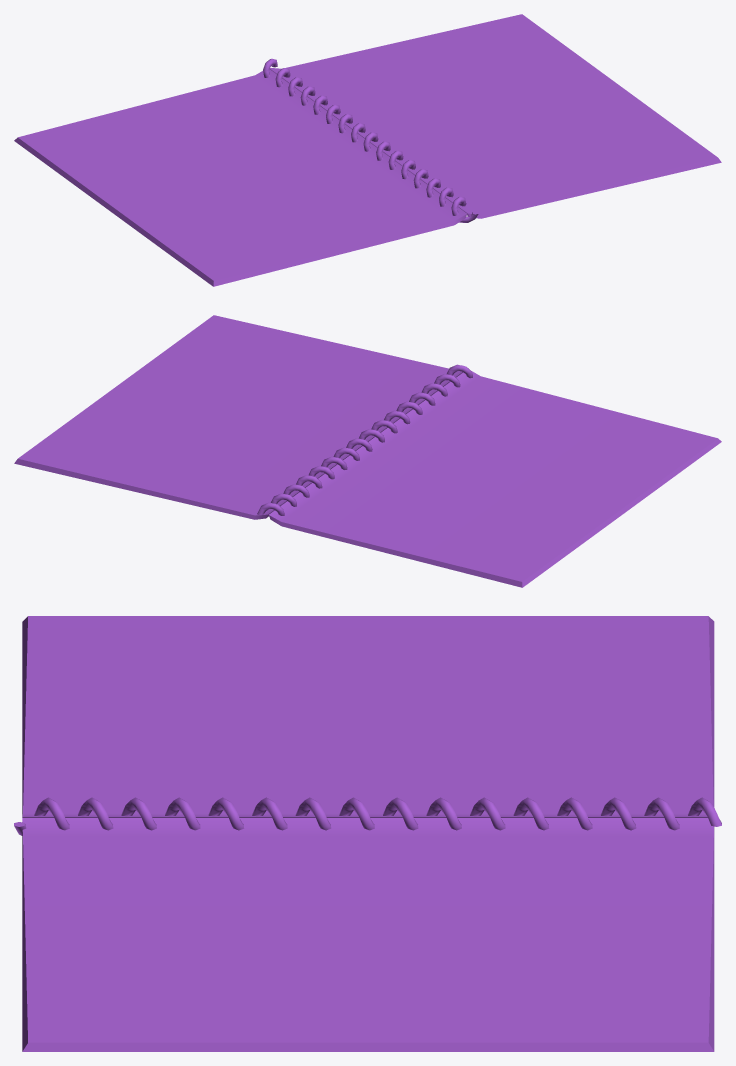
File: Cuaderno 2 Abierto.fbx
The picture shows the model from 3 angles, top to bottom: view 1: azimuth 30°, elevation 25°; view 2: azimuth 150°, elevation 25°; view 3: azimuth 270°, elevation 25°; orthographic projection. The views are drawn at different scales.
Parts seen in each view (by area): view 1: Cuaderno_2_Abierto; view 2: Cuaderno_2_Abierto; view 3: Cuaderno_2_Abierto.
Boxes of the visible parts, x1,y1,x2,y2 form: Cuaderno_2_Abierto: [14, 14, 721, 286]; Cuaderno_2_Abierto: [14, 315, 721, 587]; Cuaderno_2_Abierto: [14, 616, 721, 1051].
Size of the model in its own units: 0.5446 by 0.022 by 0.3785.
